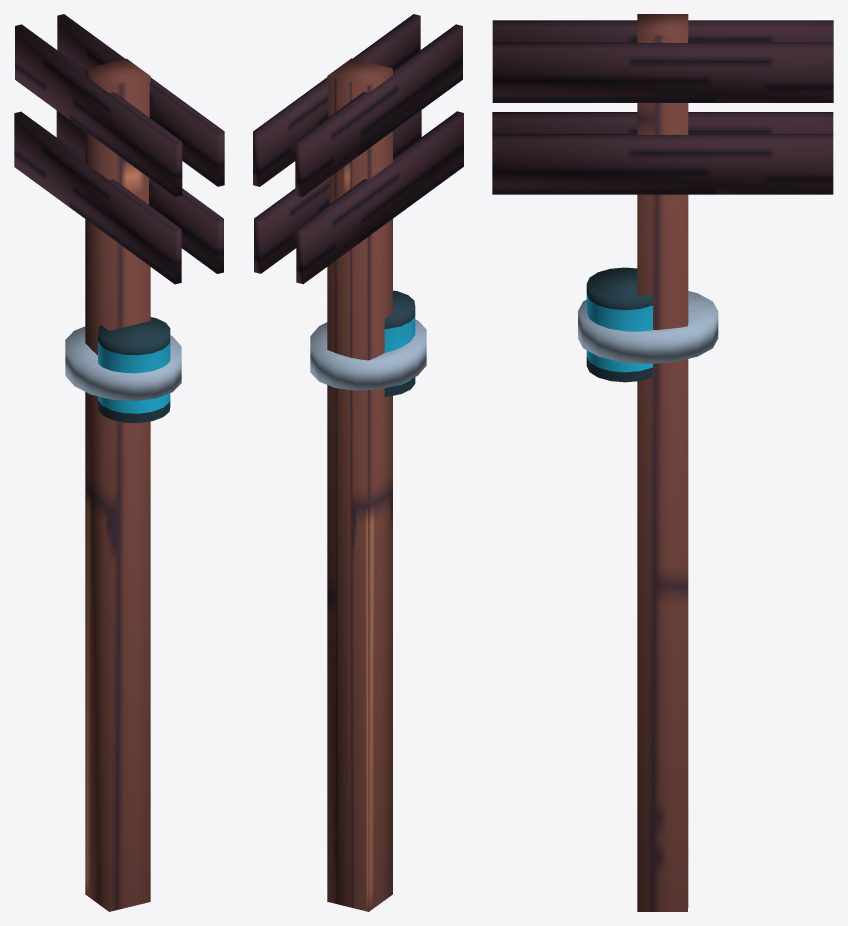
The model's file is PosteDeEletricidade.fbx.
3 renders of one model, left to right at view 1: azimuth 30°, elevation 25°; view 2: azimuth 150°, elevation 25°; view 3: azimuth 270°, elevation 25°, orthographic. The views are drawn at different scales.
Visible parts, largest first — view 1: PosteDeEletricidade; view 2: PosteDeEletricidade; view 3: PosteDeEletricidade.
Boxes of the visible parts, x1,y1,x2,y2 form: PosteDeEletricidade: (14,14,224,911); PosteDeEletricidade: (253,14,463,911); PosteDeEletricidade: (492,14,833,911).
Bounding box in the file's own units: 75.92 × 215 × 608.
